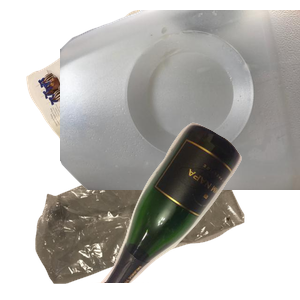glass: (87, 120, 300, 300)
paper: (24, 10, 235, 190)
plastic: (60, 10, 300, 190)
trash: (33, 145, 270, 300)
